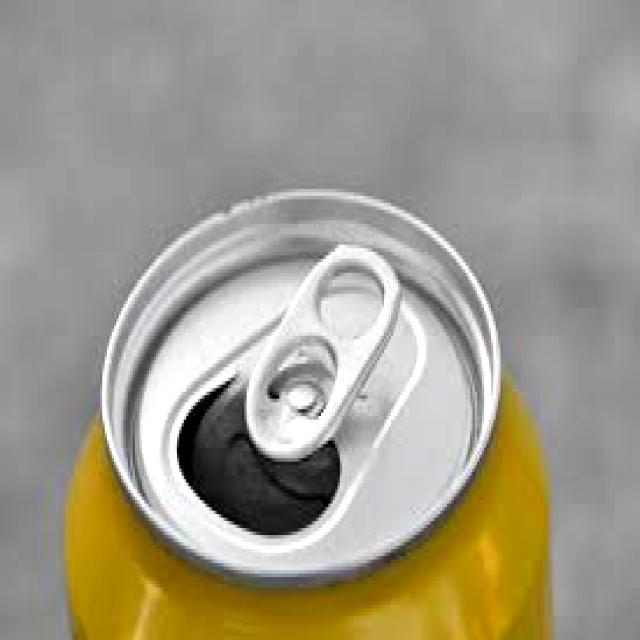Metal: (61, 176, 560, 640)
